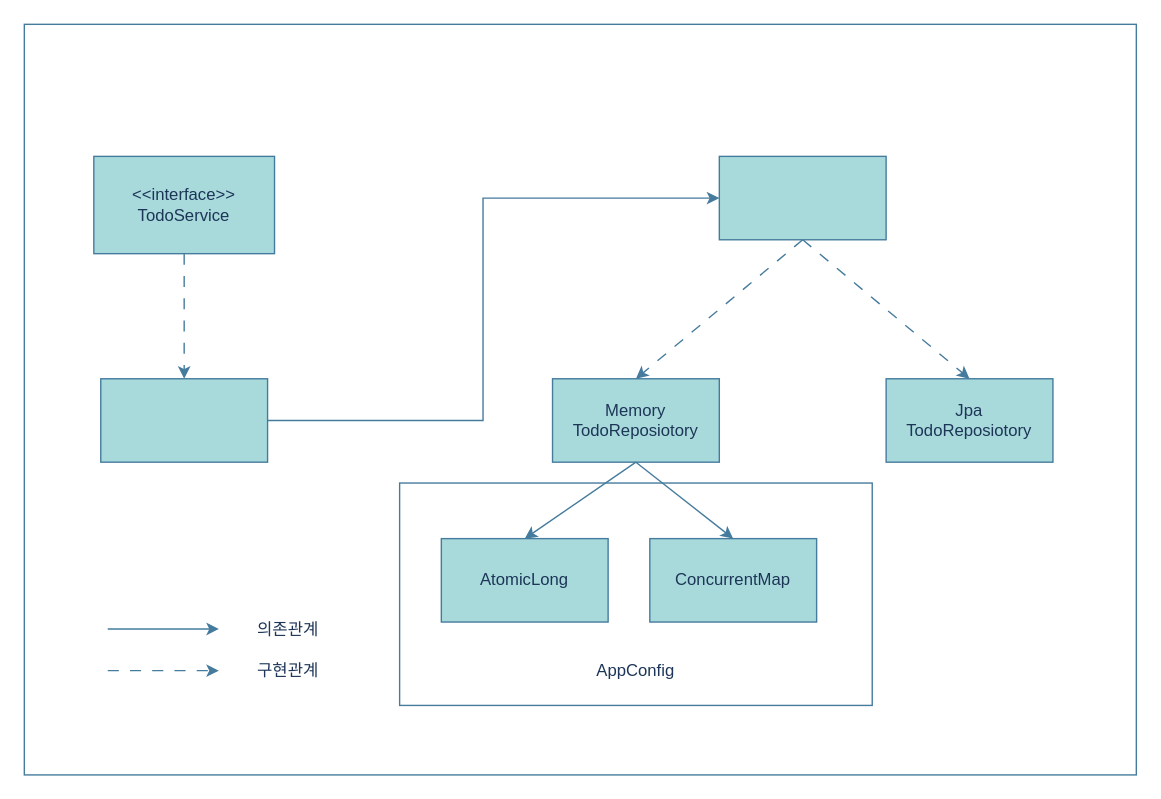
Some shapes in this 1161 by 799 pixel diagram are drawn without their labels. The centre of each missing label's shape, as x and y in pixels:
"<<interface>> TodoRepository" goes at [802,197].
"TodoServiceImpl" goes at [183,419].
